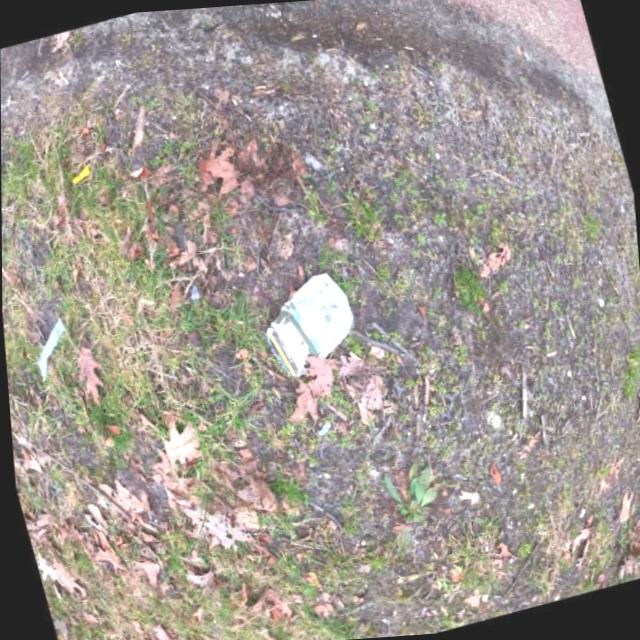Paper: (256, 268, 359, 384)
